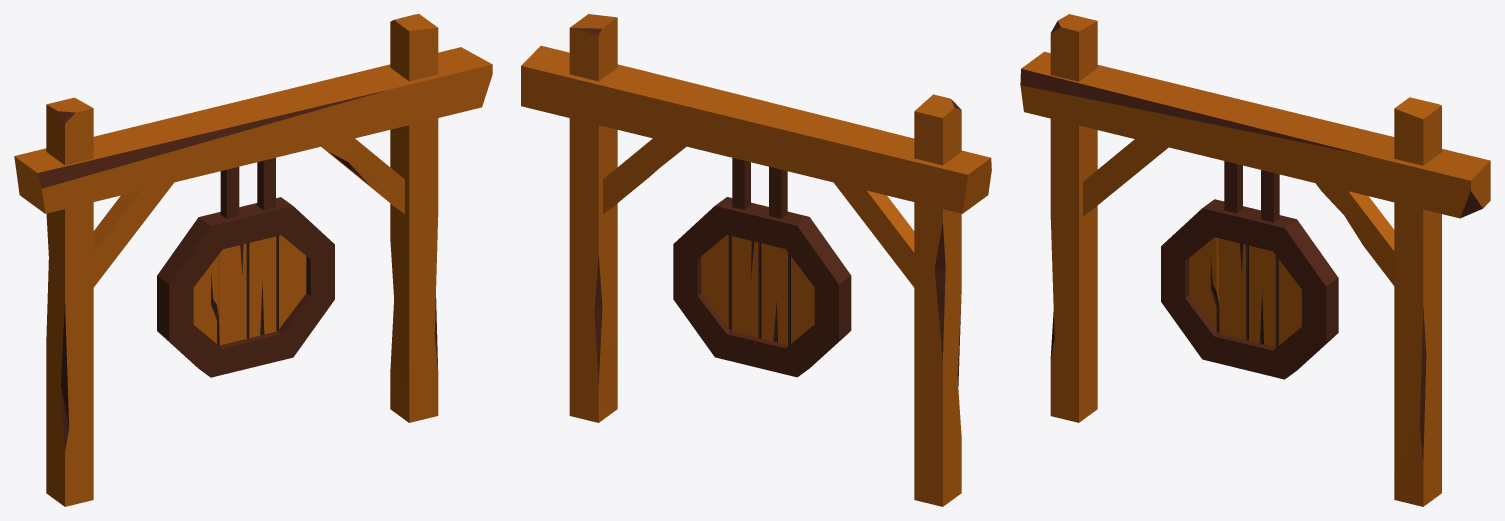
The model's file is Sign_2.fbx.
3 views of the same model, side by side, from view 1: azimuth 30°, elevation 25°; view 2: azimuth 150°, elevation 25°; view 3: azimuth 330°, elevation 25° (orthographic).
Parts seen in each view (by area): view 1: Sign_2; view 2: Sign_2; view 3: Sign_2.
Boxes of the visible parts, x1,y1,x2,y2 form: Sign_2: (14, 14, 492, 506); Sign_2: (521, 14, 991, 506); Sign_2: (1020, 14, 1490, 506).
Bounding box in the file's own units: 102 × 84.25 × 10.01.
